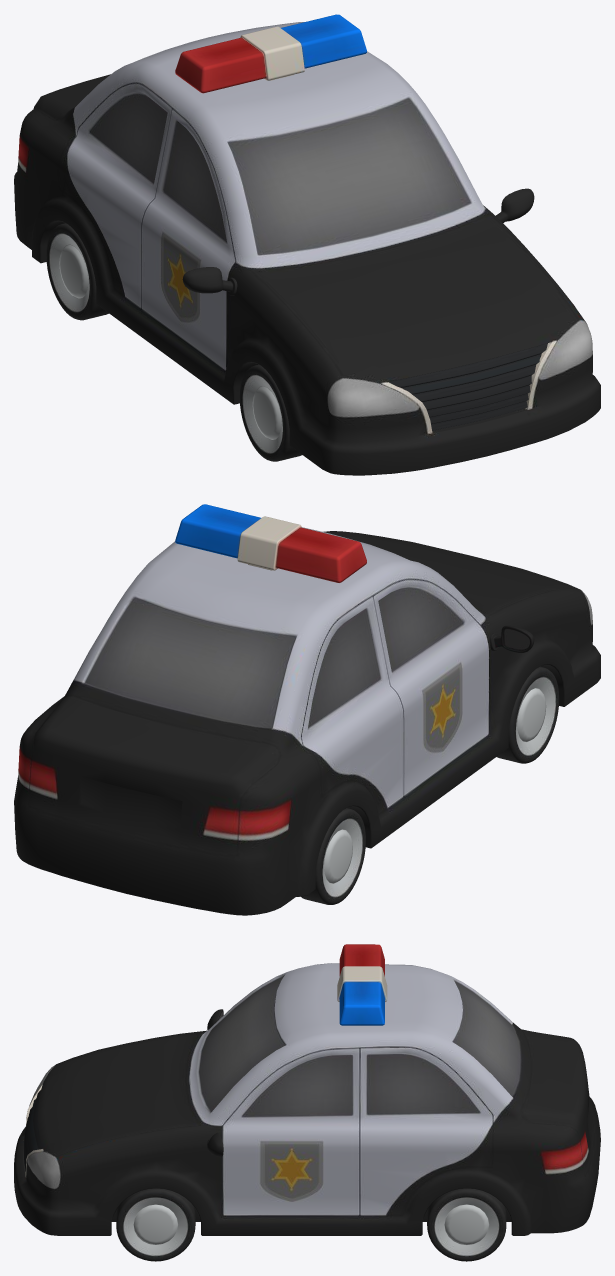
File: police.glb
The picture shows the model from 3 angles, top to bottom: view 1: azimuth 30°, elevation 25°; view 2: azimuth 150°, elevation 25°; view 3: azimuth 270°, elevation 25°; orthographic projection. The views are drawn at different scales.
Parts seen in each view (by area): view 1: icon_policecar_base_stylized_lod0; view 2: icon_policecar_base_stylized_lod0; view 3: icon_policecar_base_stylized_lod0.
Part boxes in pixels (x1,y1,x2,y2): icon_policecar_base_stylized_lod0: (14, 14, 600, 475); icon_policecar_base_stylized_lod0: (14, 504, 600, 915); icon_policecar_base_stylized_lod0: (14, 944, 600, 1261).
Size of the model in its own units: 0.1222 by 0.0979 by 0.2209.
Materials: 1 (1 with a texture image).
